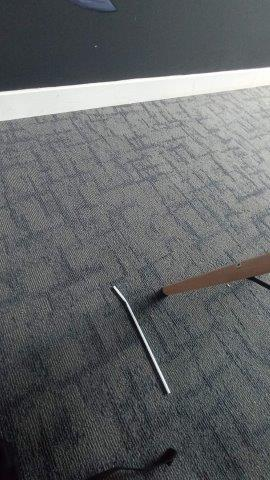sedotan: (112, 286, 170, 394)
